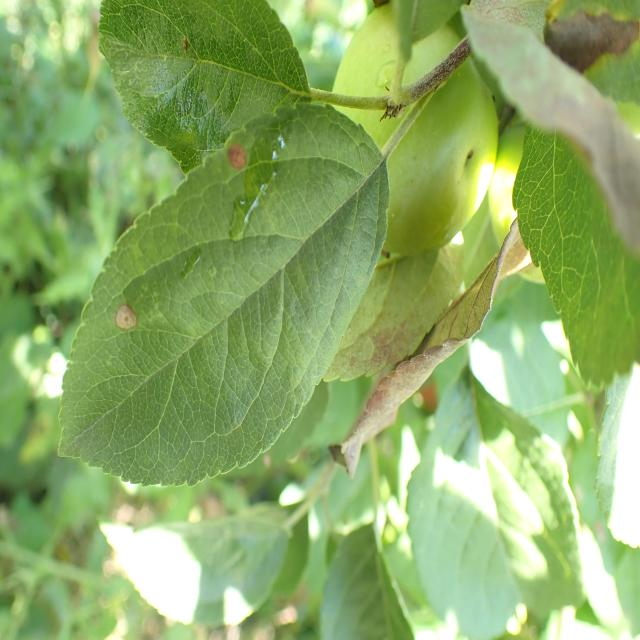Black Rot: (101, 289, 155, 344), (224, 135, 255, 177)
